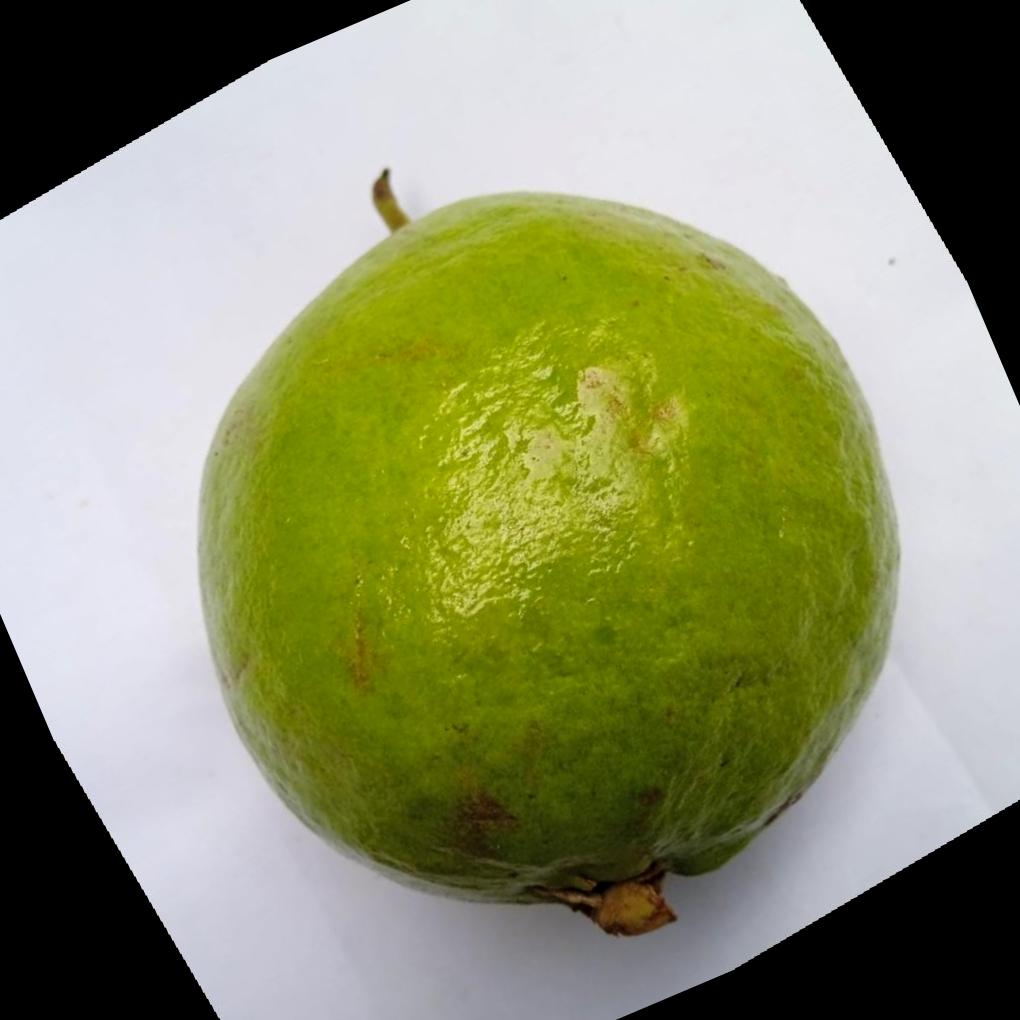FreshGuava: (196, 174, 904, 934)
